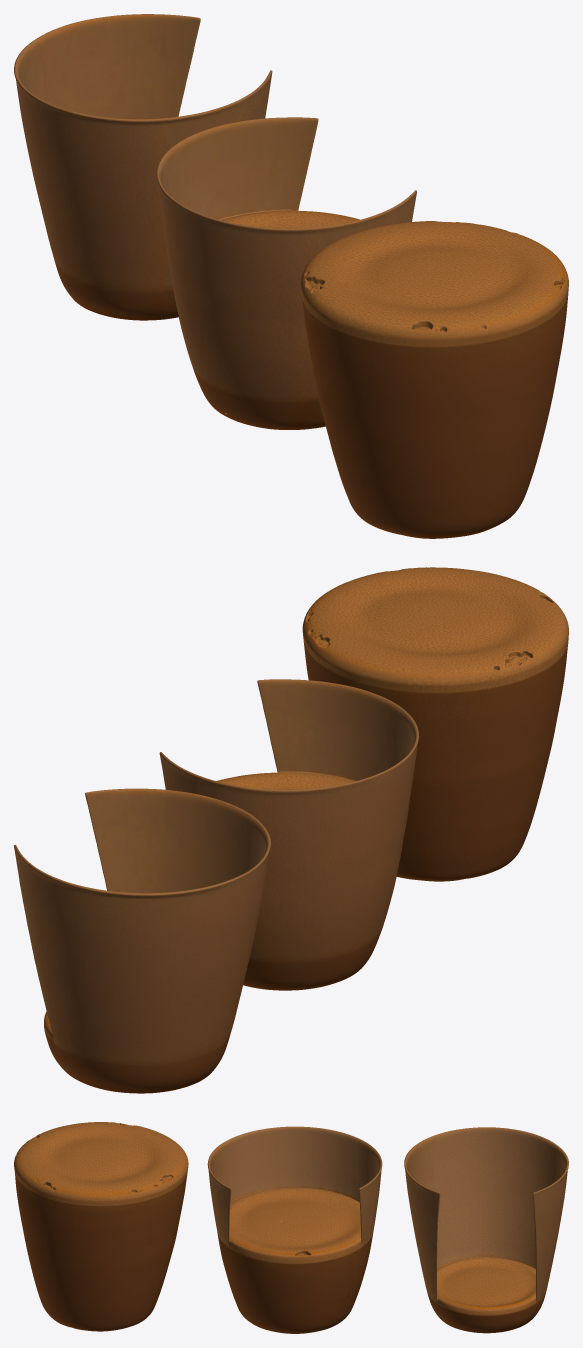
File: coffee cup 3d model.glb
3 renders of one model, top to bottom at view 1: azimuth 30°, elevation 25°; view 2: azimuth 150°, elevation 25°; view 3: azimuth 270°, elevation 25°, orthographic. The views are drawn at different scales.
Parts seen in each view (by area): view 1: tripo_node_05790b7a-b62d-4eb7-9c05-93740cdef9c1; view 2: tripo_node_05790b7a-b62d-4eb7-9c05-93740cdef9c1; view 3: tripo_node_05790b7a-b62d-4eb7-9c05-93740cdef9c1.
Boxes of the visible parts, x1,y1,x2,y2 form: tripo_node_05790b7a-b62d-4eb7-9c05-93740cdef9c1: (14, 14, 568, 538); tripo_node_05790b7a-b62d-4eb7-9c05-93740cdef9c1: (14, 567, 568, 1093); tripo_node_05790b7a-b62d-4eb7-9c05-93740cdef9c1: (14, 1122, 568, 1333).
Bounding box in the file's own units: 0.3133 × 0.3047 × 0.9804.
1 material, 1 textured.
